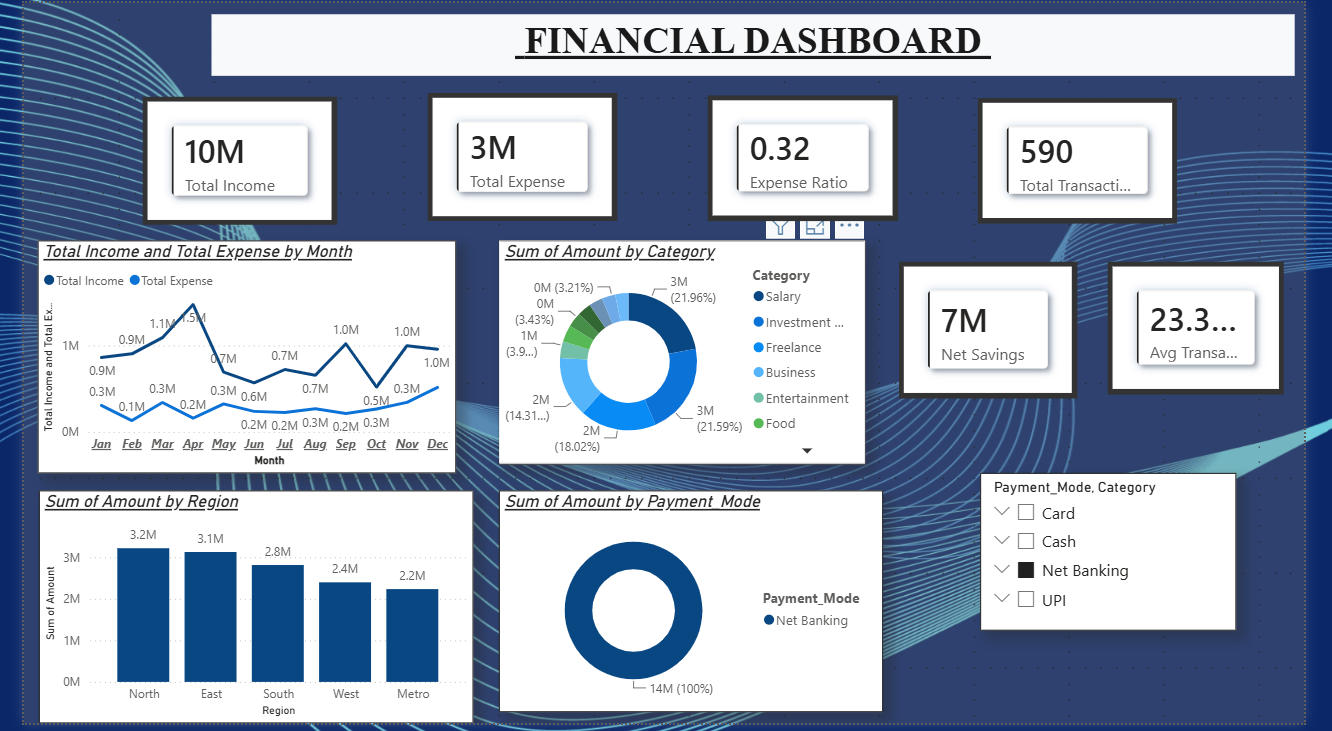

Layout of this report page (visuals, bound fields, positions):
{"tool":"powerbi","page":{"name":"Report_1","canvas":[1280,720],"ordinal":0},"visuals":[{"type":"cardVisual","fields":{"Data":["financial_dataset_advanced.Total Income"]},"box":[118.2,93.5,194.5,128],"z":0},{"type":"cardVisual","fields":{"Data":["financial_dataset_advanced.Total Expense"]},"box":[403.7,89.8,189.5,128],"z":1000},{"type":"cardVisual","fields":{"Data":["financial_dataset_advanced.Net Savings"]},"box":[875.1,258.5,178.5,136.6],"z":2000},{"type":"lineChart","fields":{"Y":["financial_dataset_advanced.Total Income","financial_dataset_advanced.Total Expense"],"Category":["financial_dataset_advanced.Month"]},"box":[13.5,237.5,418.5,232.6],"z":3000},{"type":"donutChart","fields":{"Category":["financial_dataset_advanced.Category"],"Y":["Sum(financial_dataset_advanced.Amount)"]},"box":[475.1,237.5,366.8,224],"z":4000},{"type":"donutChart","fields":{"Category":["financial_dataset_advanced.Payment_Mode"],"Y":["Sum(financial_dataset_advanced.Amount)"]},"box":[475.1,487.4,384,221.5],"z":5000},{"type":"clusteredColumnChart","fields":{"Y":["Sum(financial_dataset_advanced.Amount)"],"Category":["financial_dataset_advanced.Region"]},"box":[14.8,487.4,434.5,232.6],"z":6000},{"type":"slicer","fields":{"Values":["financial_dataset_advanced.Payment_Mode","financial_dataset_advanced.Category"]},"box":[956.3,470.2,256,157.5],"z":7000},{"type":"cardVisual","fields":{"Data":["financial_dataset_advanced.Avg Transaction"]},"box":[1084.3,258.5,176,132.9],"z":8000},{"type":"cardVisual","fields":{"Data":["financial_dataset_advanced.Total Transactions"]},"box":[953.8,94.8,199.4,125.5],"z":9000},{"type":"cardVisual","fields":{"Data":["financial_dataset_advanced.Expense Ratio"]},"box":[684.3,92.3,190.8,125.5],"z":10000},{"type":"textbox","box":[187.1,11.1,1083.1,61.5],"z":11000}]}

Visuals, with their boxes in screenshot pixels (x1, y1, x2, y2), scaled from the page's 1280x720 canvas onto the 1332x731 screenshot:
cardVisual - financial_dataset_advanced.Total Income: {"x1": 123, "y1": 95, "x2": 325, "y2": 225}
cardVisual - financial_dataset_advanced.Total Expense: {"x1": 420, "y1": 91, "x2": 617, "y2": 221}
cardVisual - financial_dataset_advanced.Net Savings: {"x1": 911, "y1": 262, "x2": 1096, "y2": 401}
lineChart - financial_dataset_advanced.Total Income x financial_dataset_advanced.Total Expense: {"x1": 14, "y1": 241, "x2": 450, "y2": 477}
donutChart - financial_dataset_advanced.Category x Sum(financial_dataset_advanced.Amount): {"x1": 494, "y1": 241, "x2": 876, "y2": 469}
donutChart - financial_dataset_advanced.Payment_Mode x Sum(financial_dataset_advanced.Amount): {"x1": 494, "y1": 495, "x2": 894, "y2": 720}
clusteredColumnChart - Sum(financial_dataset_advanced.Amount) x financial_dataset_advanced.Region: {"x1": 15, "y1": 495, "x2": 468, "y2": 730}
slicer - financial_dataset_advanced.Payment_Mode x financial_dataset_advanced.Category: {"x1": 995, "y1": 477, "x2": 1262, "y2": 637}
cardVisual - financial_dataset_advanced.Avg Transaction: {"x1": 1128, "y1": 262, "x2": 1311, "y2": 397}
cardVisual - financial_dataset_advanced.Total Transactions: {"x1": 993, "y1": 96, "x2": 1200, "y2": 224}
cardVisual - financial_dataset_advanced.Expense Ratio: {"x1": 712, "y1": 94, "x2": 911, "y2": 221}
textbox: {"x1": 195, "y1": 11, "x2": 1322, "y2": 74}
